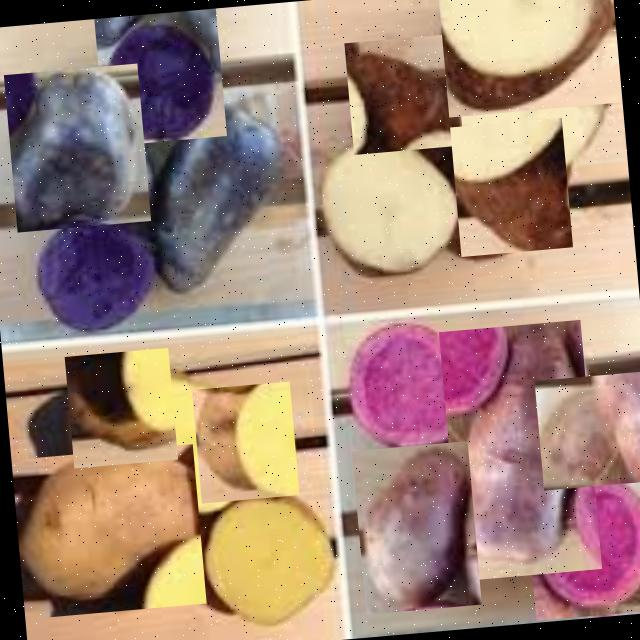Damaged potato: (11, 444, 206, 618), (150, 92, 284, 285), (4, 63, 150, 232), (438, 0, 622, 117), (523, 472, 640, 620), (450, 118, 572, 256), (344, 34, 463, 154), (64, 347, 178, 468), (192, 381, 300, 503)
Defected potato: (438, 320, 602, 580), (352, 441, 482, 614), (340, 313, 472, 458), (29, 206, 168, 340), (94, 8, 226, 146), (534, 371, 640, 490)
